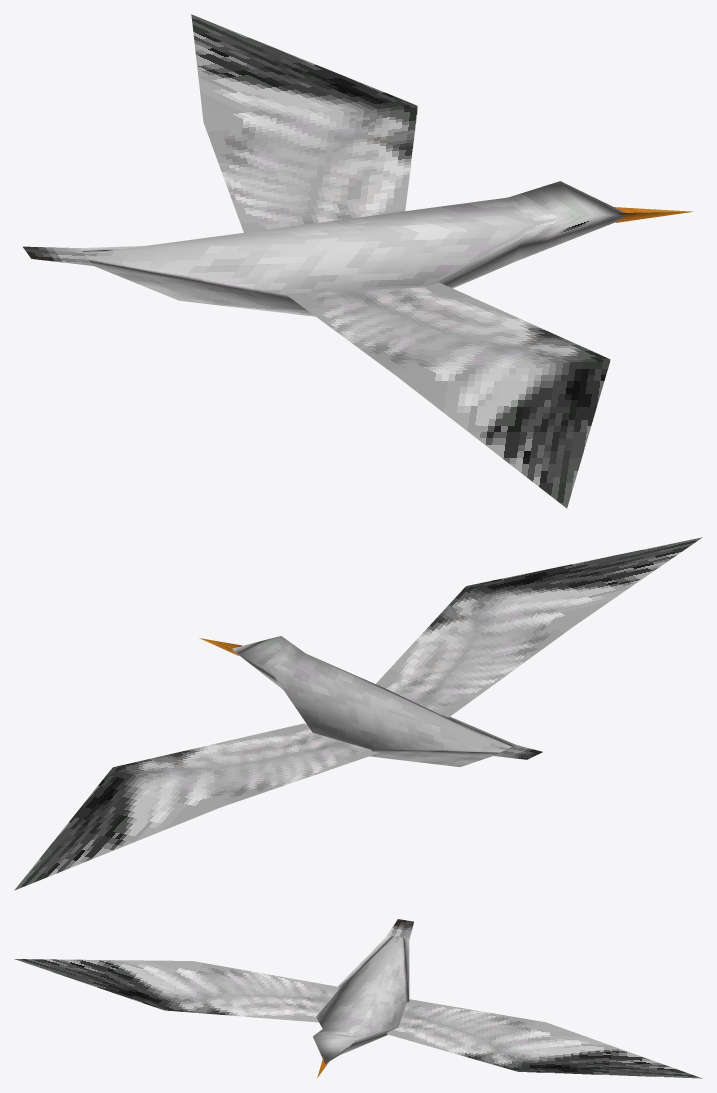
The model's file is INST_LT_SEAGULL_FLYA01.fbx.
3 views of the same model, one above another, from view 1: azimuth 30°, elevation 25°; view 2: azimuth 150°, elevation 25°; view 3: azimuth 270°, elevation 25° (orthographic). The views are drawn at different scales.
Parts seen in each view (by area): view 1: INST_LT_SEAGULL_FLYA01; view 2: INST_LT_SEAGULL_FLYA01; view 3: INST_LT_SEAGULL_FLYA01.
Part boxes in pixels (x1,y1,x2,y2): INST_LT_SEAGULL_FLYA01: (23, 14, 693, 508); INST_LT_SEAGULL_FLYA01: (14, 537, 702, 890); INST_LT_SEAGULL_FLYA01: (14, 919, 702, 1078).
Size of the model in its own units: 6087 by 1084 by 12477.
Materials: 2 (2 with a texture image).
